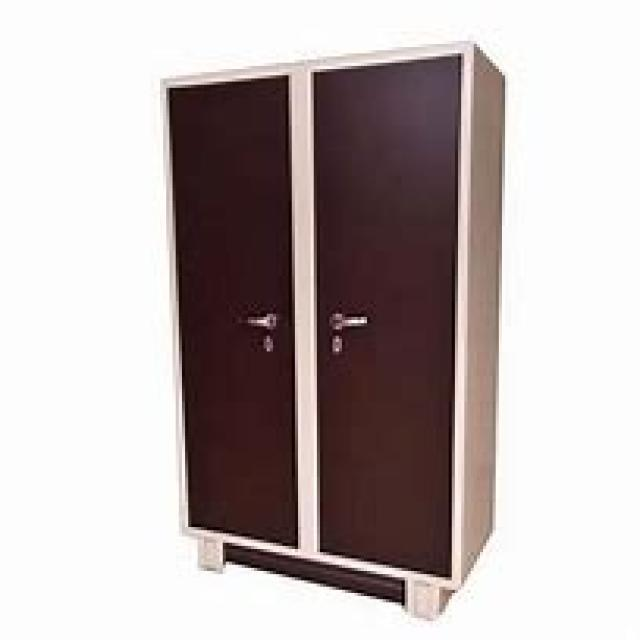dolap: (157, 37, 505, 618)
